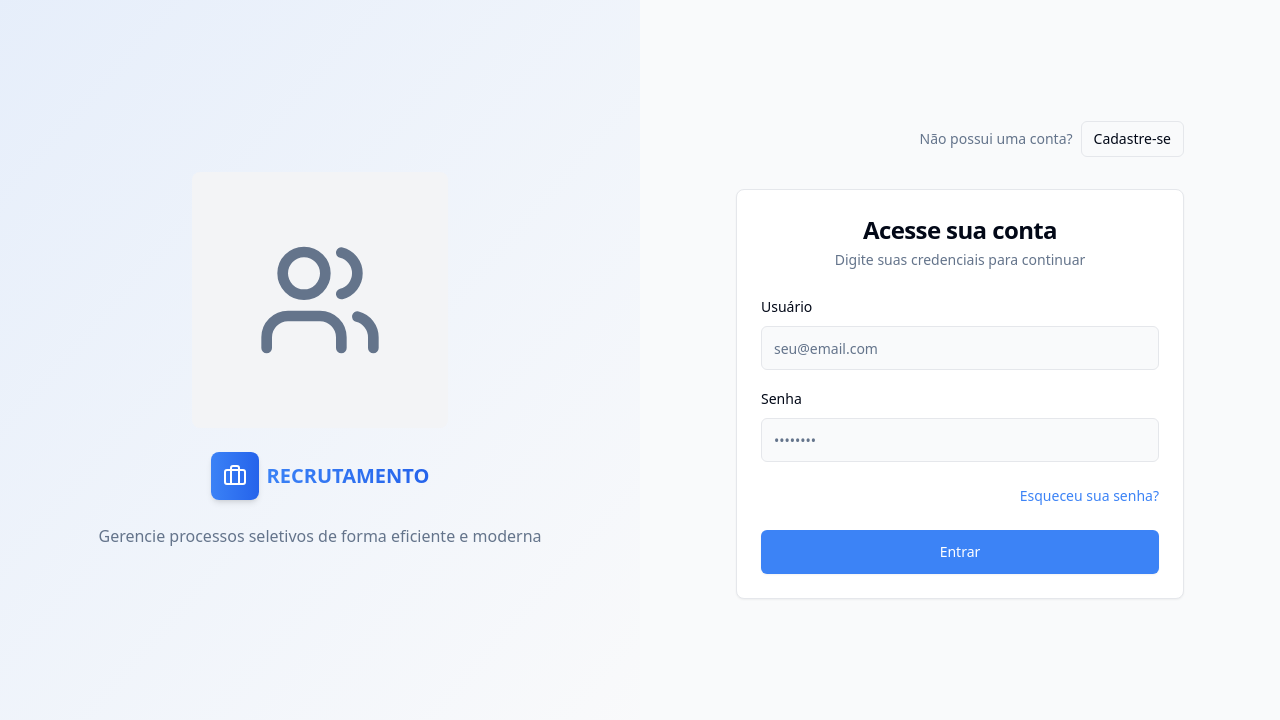
Scenario: Componente Login › deve exibir mensagem de erro em login falhado
This screenshot has width=1280, height=720.
Type "test@example.com" into the field labelled "Usuário".
click(960, 348); type("test@example.com")  # box [761,326,1159,370]
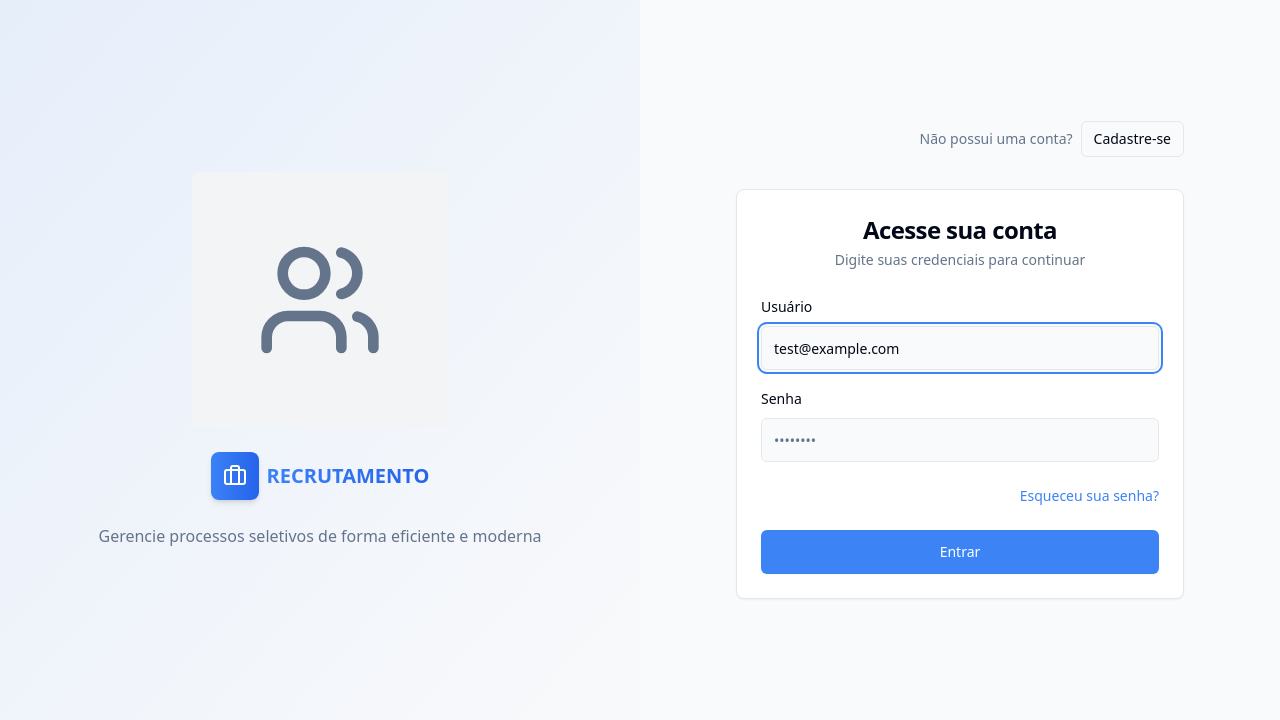
Type "wrongpassword" into the password field labelled "Senha".
click(960, 440); type("wrongpassword")  # box [761,418,1159,462]
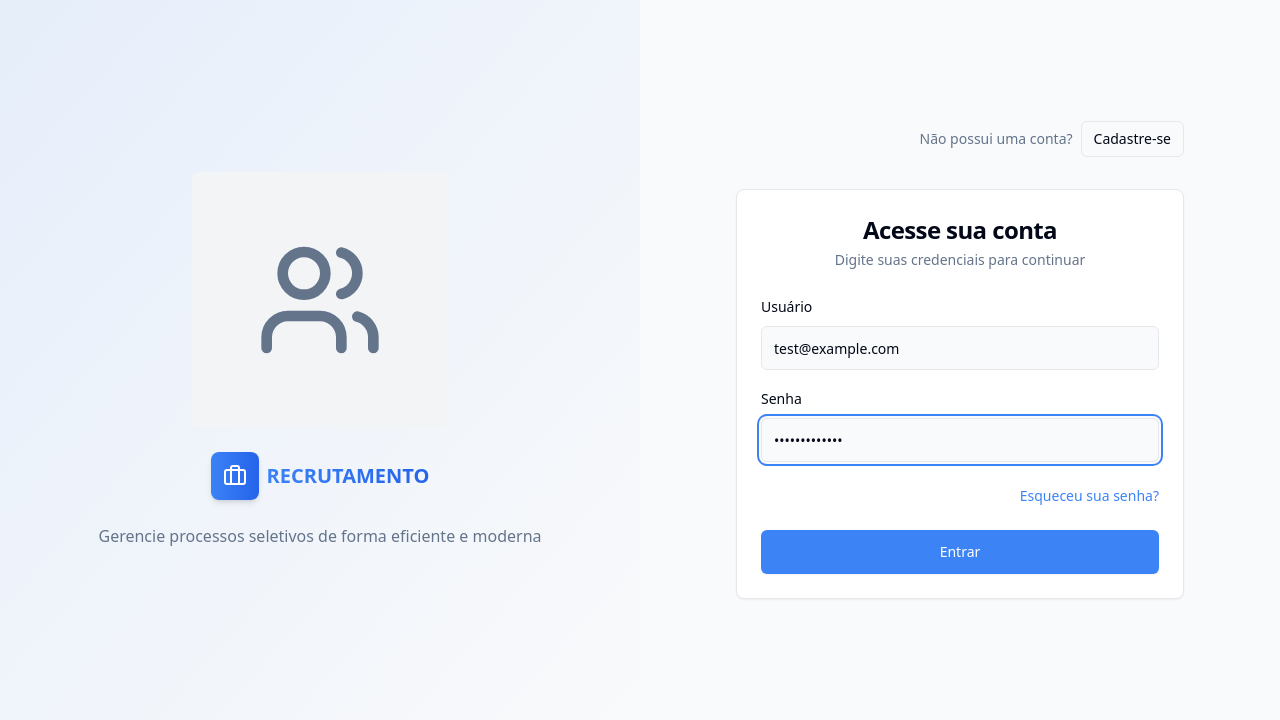
Click the button "Entrar".
click(960, 552)  # box [761,530,1159,574]
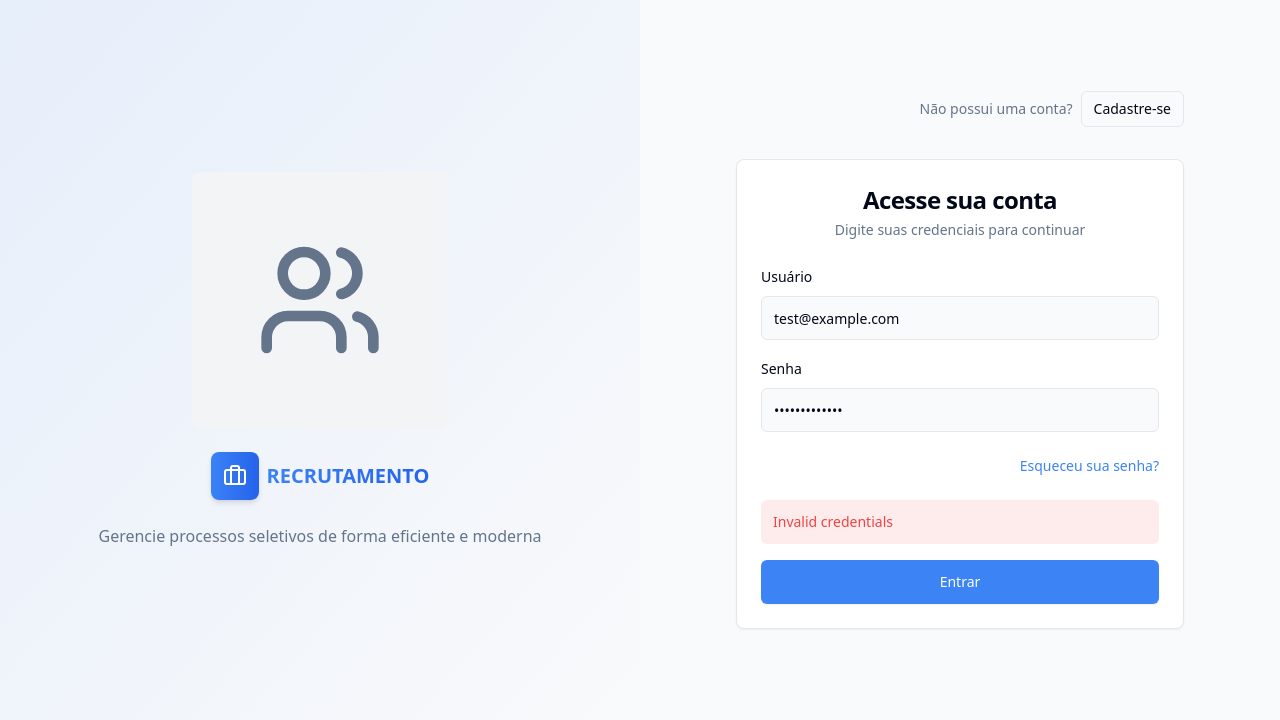
Now the text "Invalid credentials" is shown, box [761,500,1159,544]
